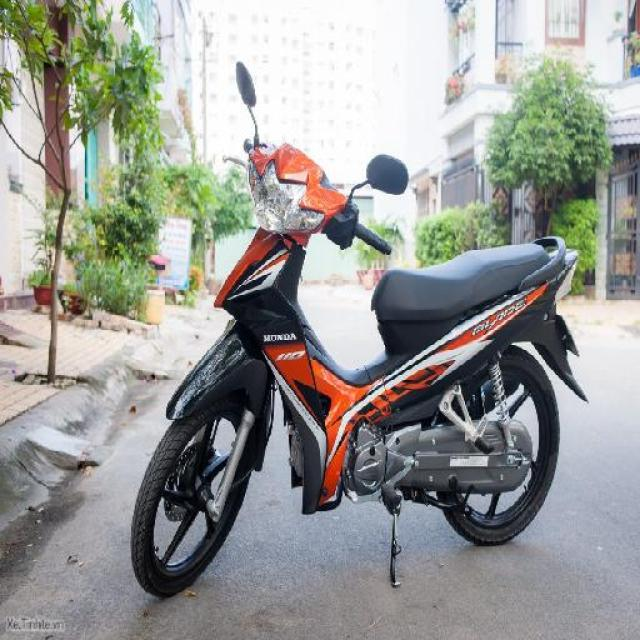All: (128, 61, 602, 604)
Head: (220, 126, 394, 268)
Tail: (510, 235, 580, 307)
